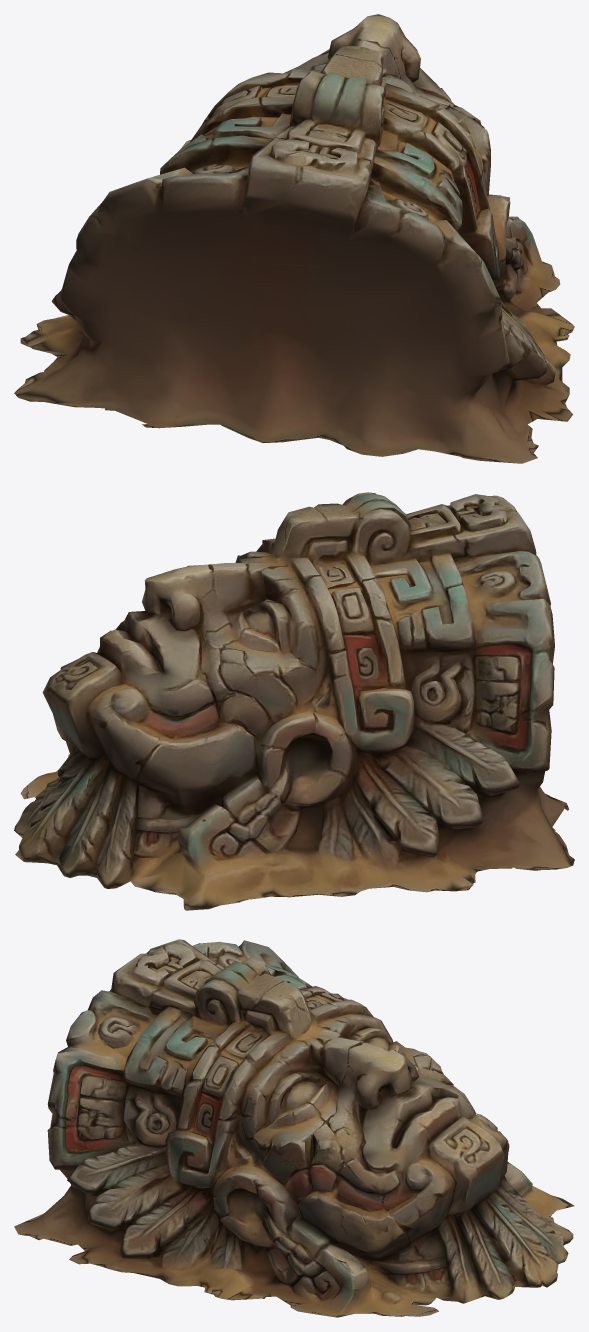
The model's file is propHead_static.glb.
The picture shows the model from 3 angles, top to bottom: view 1: azimuth 30°, elevation 25°; view 2: azimuth 150°, elevation 25°; view 3: azimuth 270°, elevation 25°; orthographic projection. The views are drawn at different scales.
Visible parts, largest first — view 1: tripo_node_7768d1a4-a63c-4c0e-a6a7-5a66663d31db; view 2: tripo_node_7768d1a4-a63c-4c0e-a6a7-5a66663d31db; view 3: tripo_node_7768d1a4-a63c-4c0e-a6a7-5a66663d31db.
Boxes of the visible parts, bbox=[...] form: tripo_node_7768d1a4-a63c-4c0e-a6a7-5a66663d31db: bbox=[14, 14, 574, 463]; tripo_node_7768d1a4-a63c-4c0e-a6a7-5a66663d31db: bbox=[14, 492, 574, 910]; tripo_node_7768d1a4-a63c-4c0e-a6a7-5a66663d31db: bbox=[14, 939, 574, 1317].
Size of the model in its own units: 1.01 by 0.5381 by 1.12.
1 material, 1 textured.
